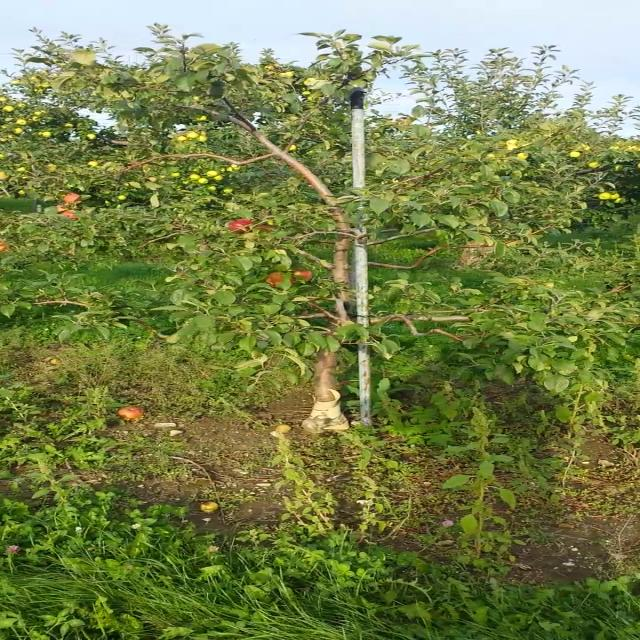apple: (266, 271, 294, 285), (228, 220, 254, 232), (293, 270, 313, 280), (63, 193, 80, 204), (255, 226, 278, 232), (61, 211, 75, 219), (57, 205, 71, 213), (1, 241, 8, 251)
